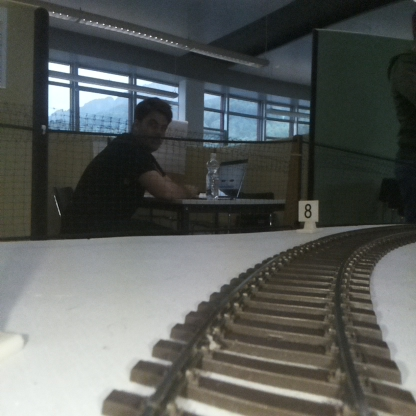white-stop-8: (298, 199, 318, 229)
